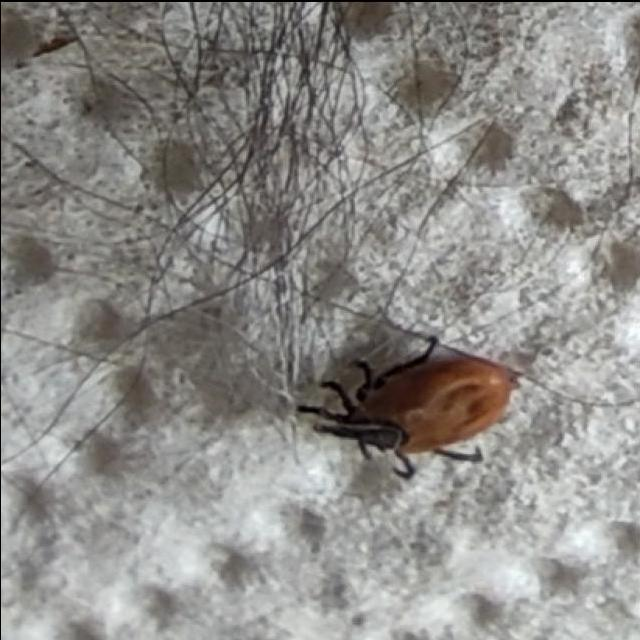Ixodes Ricinus-F-Fed: (299, 333, 519, 478)
